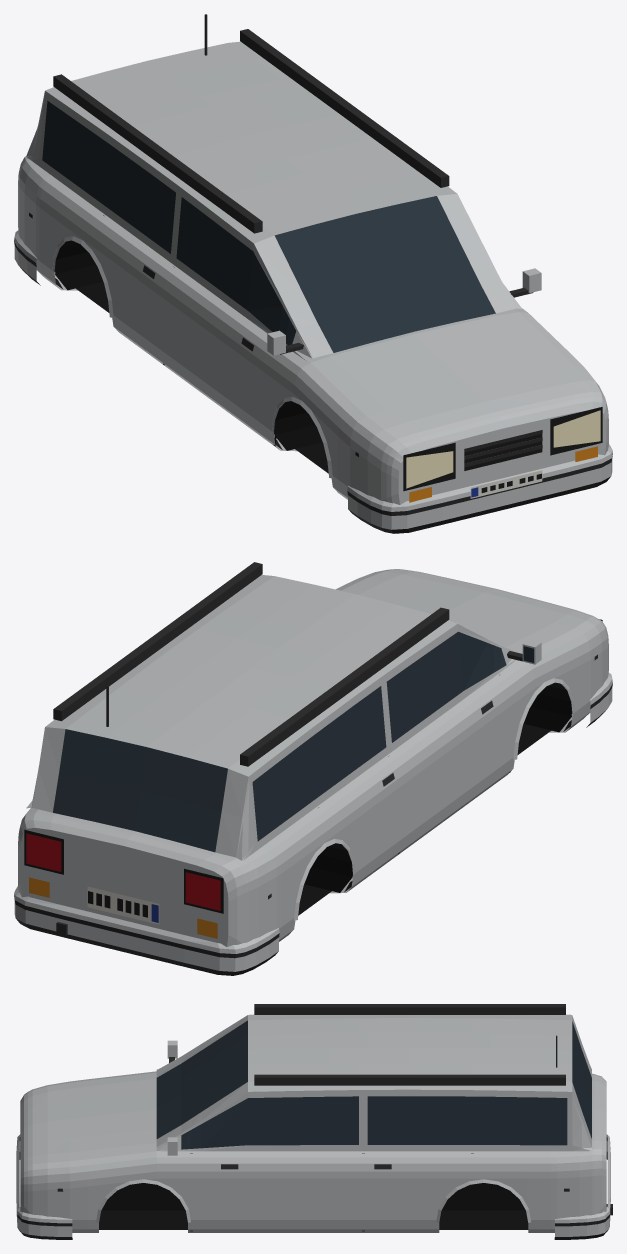
File: onix-seron.glb
3 renders of one model, top to bottom at view 1: azimuth 30°, elevation 25°; view 2: azimuth 150°, elevation 25°; view 3: azimuth 270°, elevation 25°, orthographic. The views are drawn at different scales.
Parts seen in each view (by area): view 1: LOD0, door_FR, door_RR; view 2: LOD0, door_FR, door_RR; view 3: LOD0, door_FL, door_RL.
Part boxes in pixels (<box>): LOD0: <box>14,14,612,533</box>; door_FR: <box>161,189,290,442</box>; door_RR: <box>90,135,176,360</box>; LOD0: <box>14,562,612,975</box>; door_FR: <box>386,624,512,850</box>; door_RR: <box>313,678,401,886</box>; LOD0: <box>16,1004,612,1239</box>; door_FL: <box>191,1090,361,1229</box>; door_RL: <box>365,1089,472,1229</box>.
Size of what is drawn, in the model's own units: 1.94 by 1.59 by 4.84.
